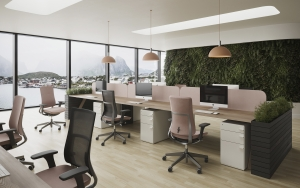chair: (162, 96, 211, 176), (96, 90, 131, 148), (34, 86, 67, 134)
